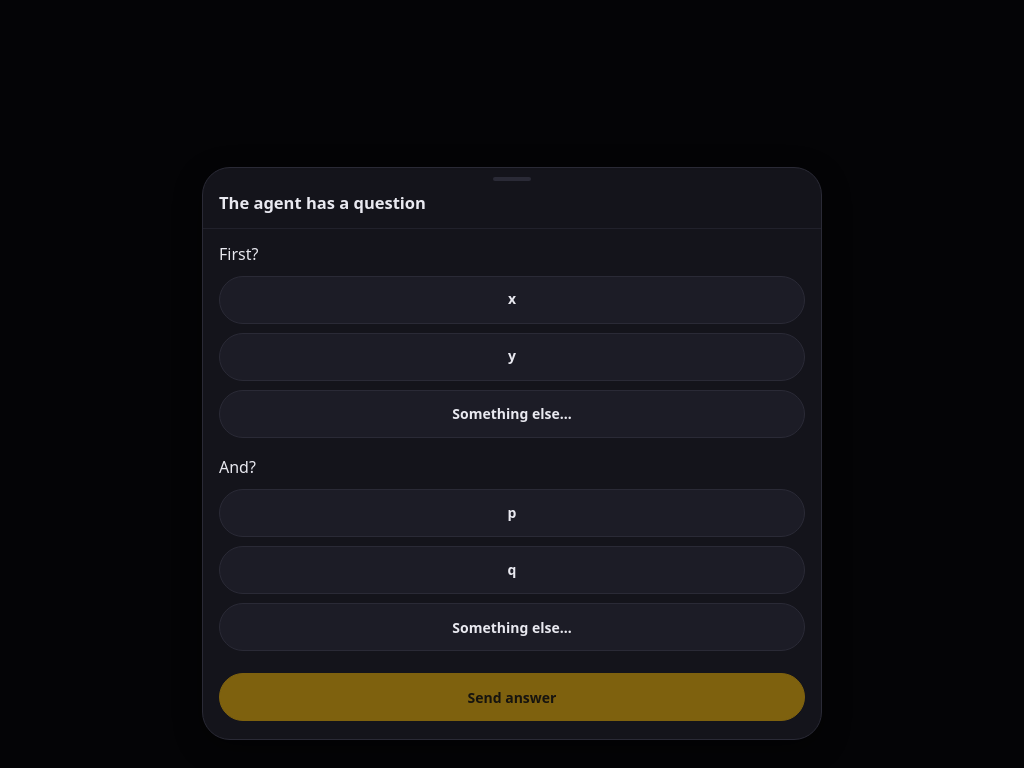
Scenario: one prompt does not answer for another › starts clean when a new question replaces the old one
Click the button "x" at point(512, 300), box [219,276,805,324]
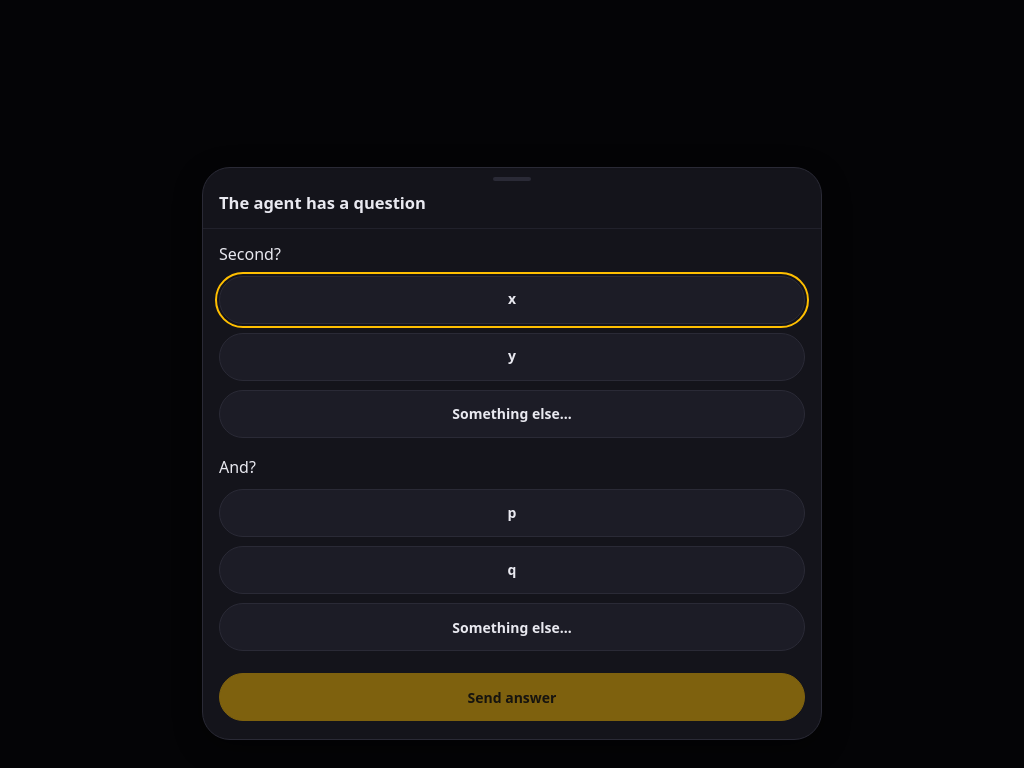
Expected: the button "Send answer" is disabled, [219,673,805,721]
Expected: the text "Second?" is shown, [219,243,281,265]
